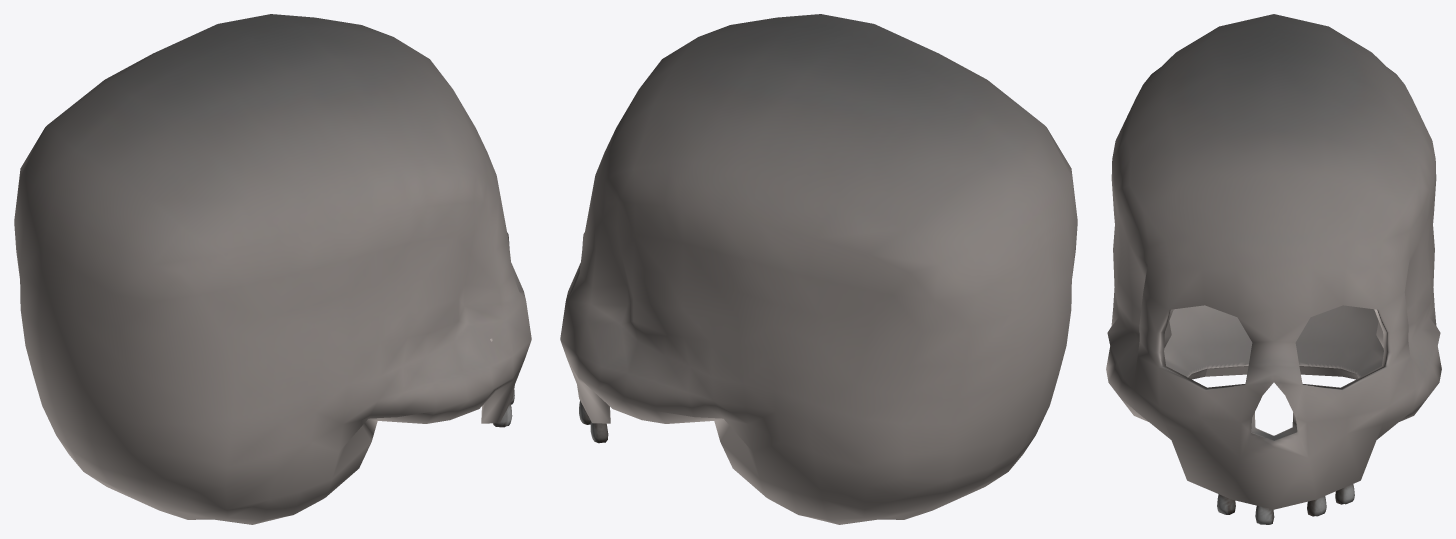
The model's file is skull_01.fbx.
3 views of the same model, side by side, from view 1: azimuth 30°, elevation 25°; view 2: azimuth 150°, elevation 25°; view 3: azimuth 270°, elevation 25° (orthographic). The views are drawn at different scales.
Visible parts, largest first — view 1: skull_01; view 2: skull_01; view 3: skull_01.
Part boxes in pixels (left/top/right/bottom): skull_01: left=14, top=14, right=531, bottom=524; skull_01: left=560, top=14, right=1077, bottom=524; skull_01: left=1106, top=14, right=1441, bottom=524.
Bounding box in the file's own units: 0.7717 × 0.67 × 0.5301.
Materials: 1 (1 with a texture image).
